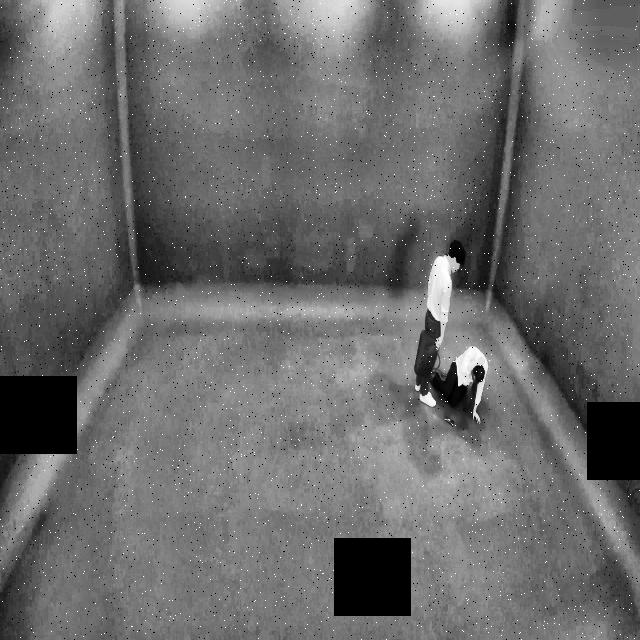assult: (410, 224, 501, 448)
